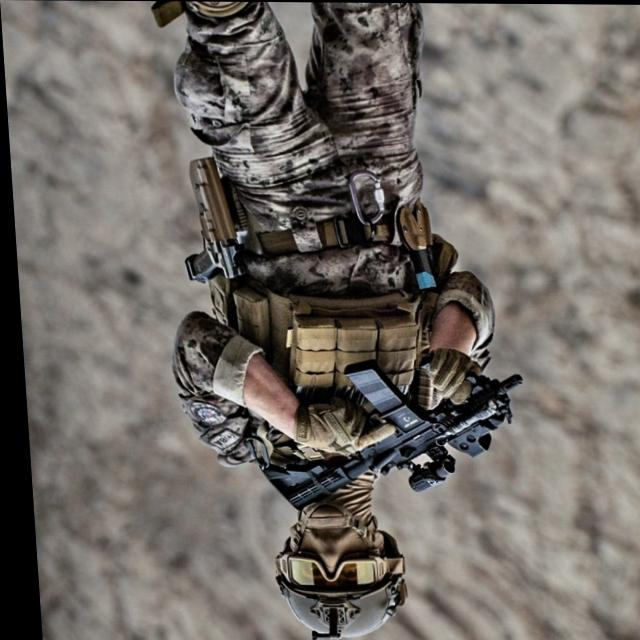poh_personel: (148, 1, 507, 640)
